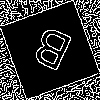B: (25, 25, 75, 81)
